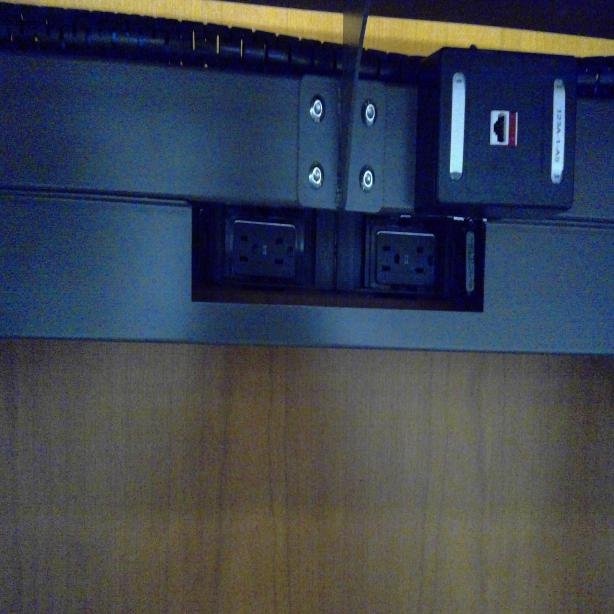typeb: (235, 222, 260, 275), (271, 226, 295, 278), (378, 235, 402, 285), (412, 237, 434, 286)
